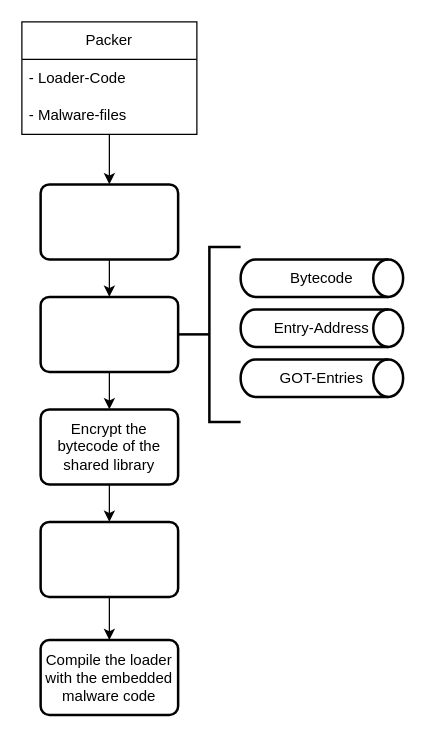
Image size: 426x738. Some labels were removed from this diagram. Here are the shapes that lost their labels. From the top down, the centre of each, then its label:
At point 109,221: "Compile malware into shared library".
At point 109,333: "Extract information of the compiled shared library".
At point 109,559: "Insert required information into the loader.c code".
